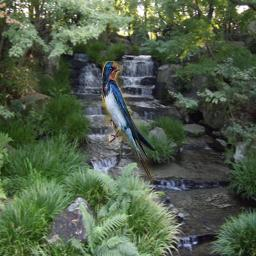Swallow: (102, 61, 155, 185)
